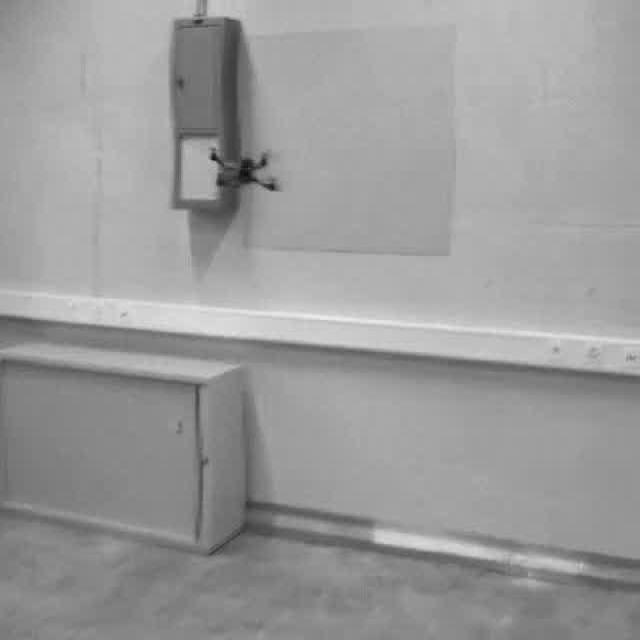drone: (204, 143, 281, 199)
